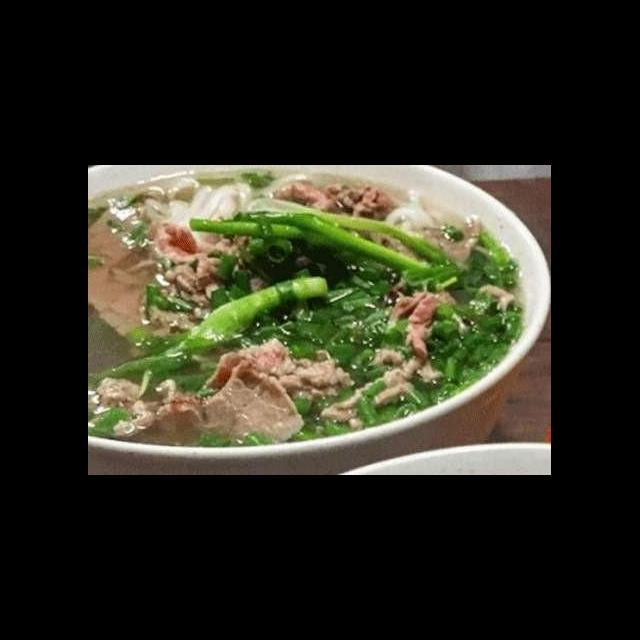banh pho: (138, 178, 264, 256)
pho bo: (90, 180, 551, 459)
thit bo: (90, 352, 312, 453), (90, 198, 208, 360), (202, 335, 358, 405), (366, 210, 486, 279), (370, 287, 460, 371), (268, 173, 400, 228)
